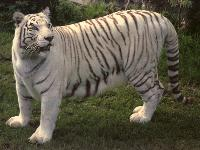Tigre: (9, 8, 191, 125)
